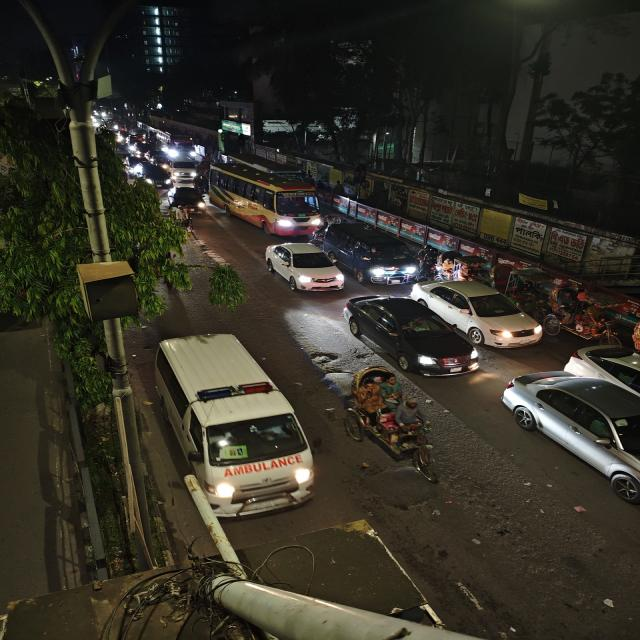bus: (205, 156, 320, 234), (152, 125, 198, 159)
car: (154, 335, 311, 524), (500, 372, 640, 508), (341, 293, 482, 381), (415, 280, 542, 350), (322, 220, 422, 286), (263, 240, 344, 296), (562, 343, 640, 395), (170, 185, 206, 215), (138, 162, 173, 190), (164, 156, 200, 178)
rickshaw: (340, 363, 444, 482), (544, 284, 606, 341), (435, 250, 492, 282)
